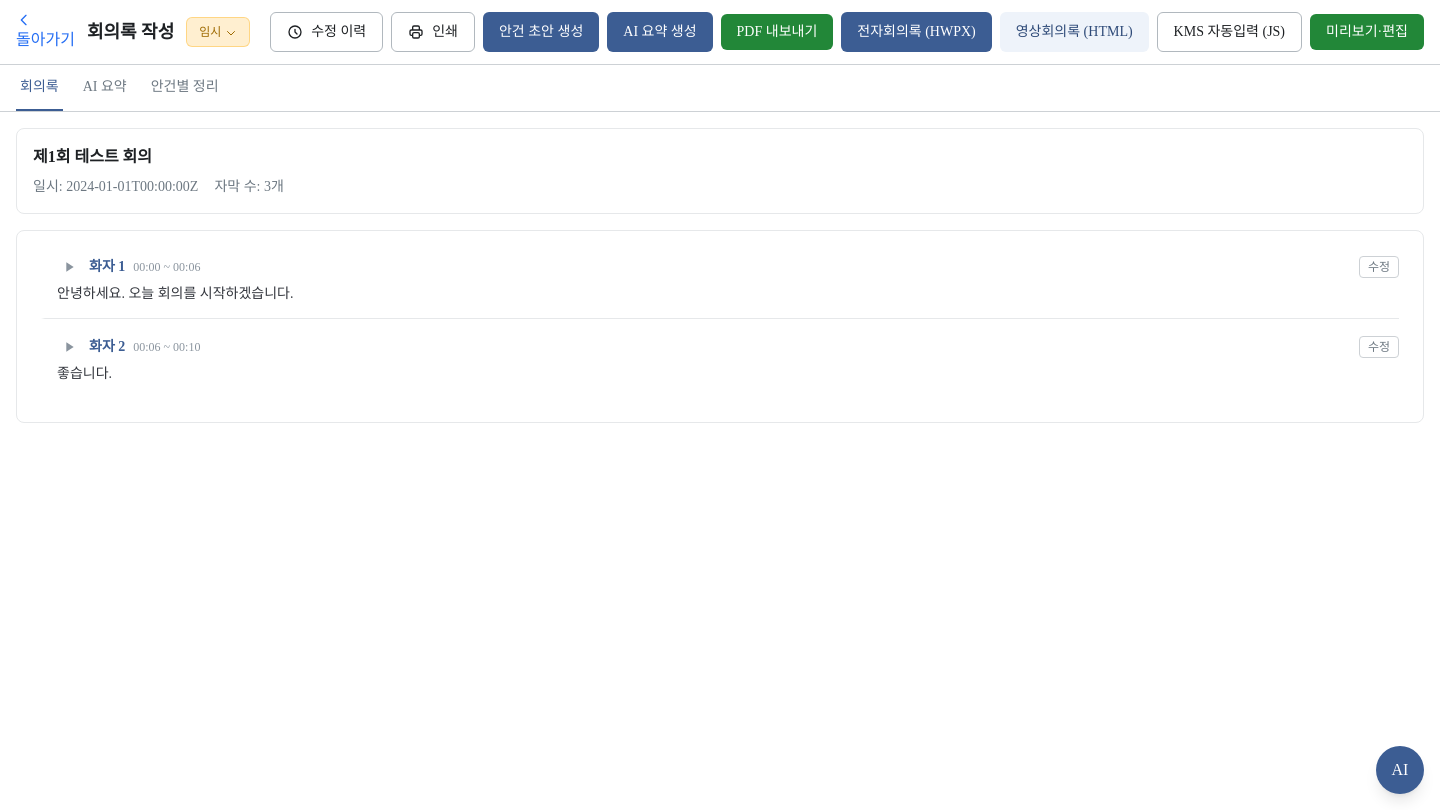
Scenario: MinutesPage › 전자회의록 미리보기·편집 버튼 › 로그인 + AI 자막이 있으면 버튼이 노출되고 클릭 시 모달이 열린다
Check: the element with test id "minutes-page" is shown, box x1=0 y1=0 x2=1439 y2=438
Click the button with test id "minutes-preview-button". click: (1367, 32)
box: x1=1310 y1=14 x2=1424 y2=50
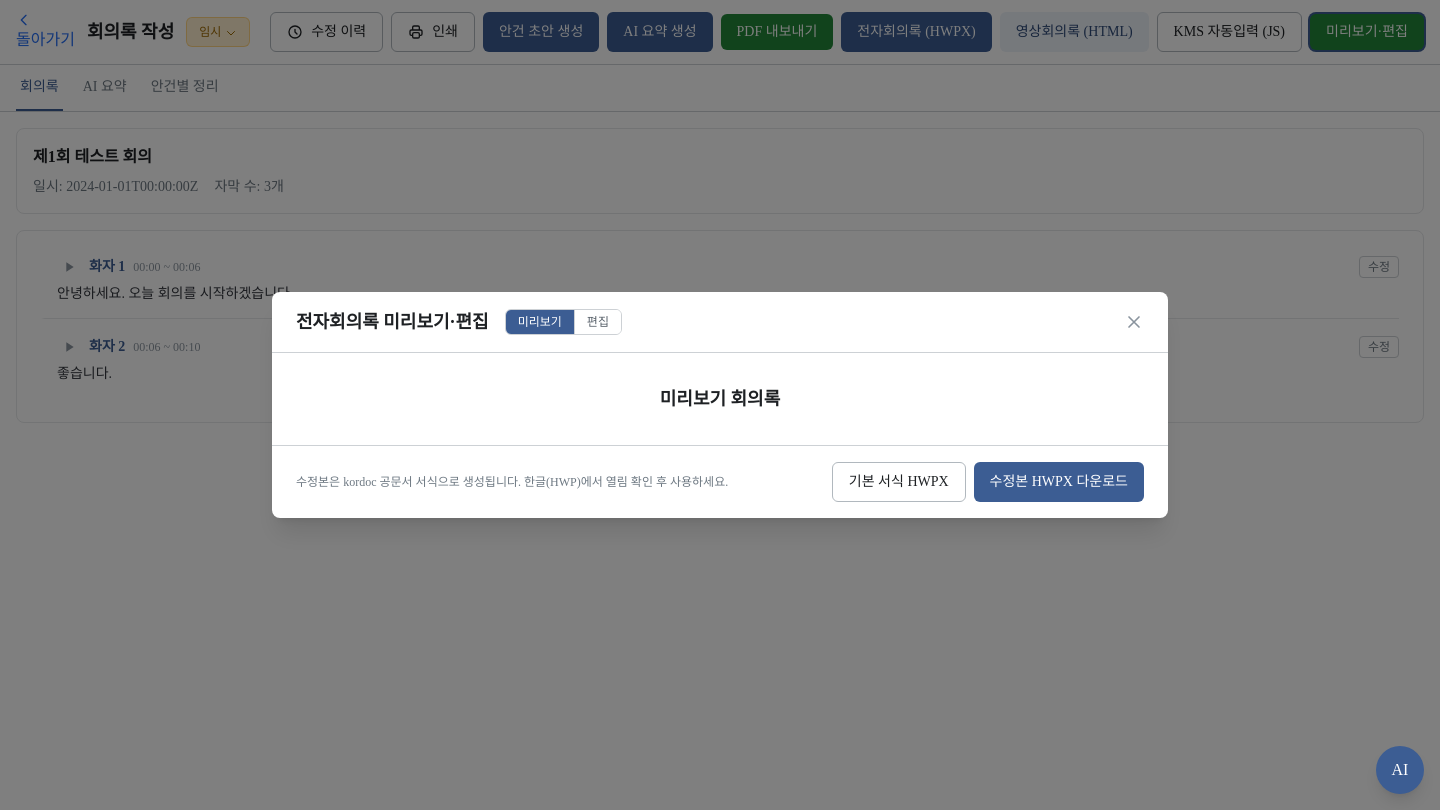
Check: the dialog "전자회의록 미리보기·편집" is shown
